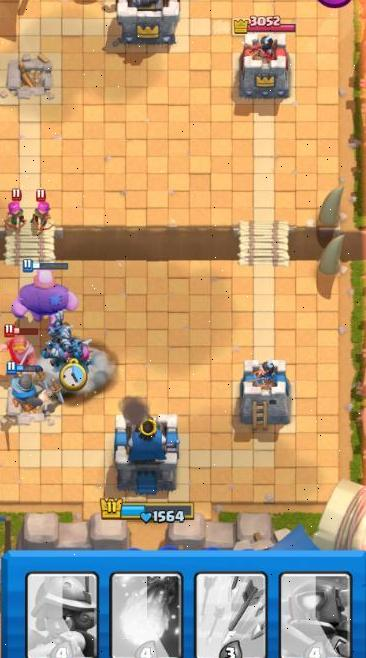enemy_archers: (28, 190, 53, 231), (2, 189, 27, 230)
enemy_knight: (0, 324, 44, 362)
player_giant: (6, 266, 83, 322)
player_knight: (5, 366, 52, 411)
player_minions: (45, 310, 74, 342), (40, 338, 68, 366), (65, 336, 92, 364)
